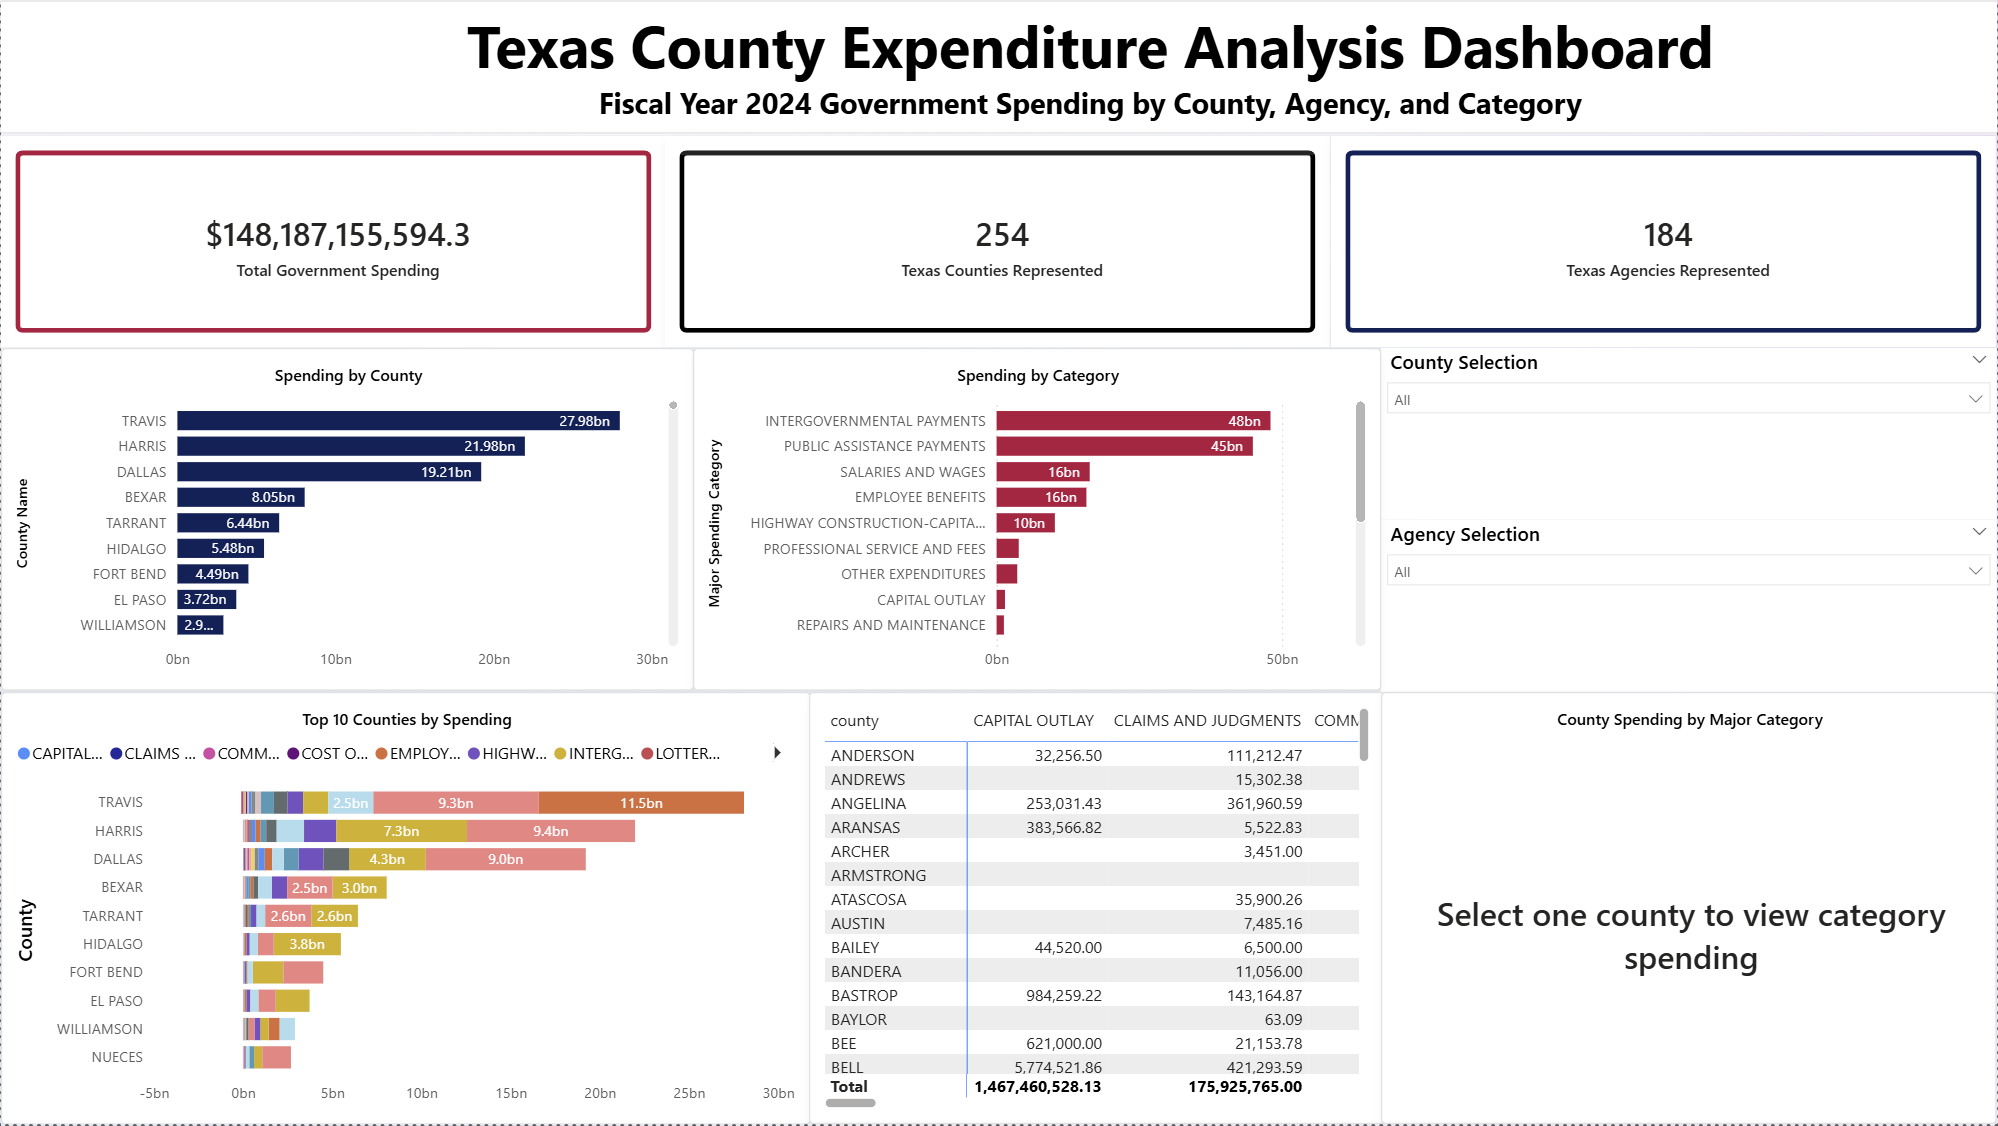

The dashboard page shown, as its layout file describes it:
{"tool":"powerbi","page":{"name":"Page 1","canvas":[1664,936],"ordinal":0},"visuals":[{"type":"textbox","box":[-128,0,1920,112],"z":0},{"type":"cardVisual","fields":{"Data":["Sum(cleaned_expenditures_by_county_2024.amount)"]},"box":[0,114,555,176.2],"z":1000},{"type":"cardVisual","fields":{"Data":["Count(cleaned_expenditures_by_county_2024.county)"]},"box":[553.6,114,555,176.2],"z":2000},{"type":"cardVisual","fields":{"Data":["Count(cleaned_expenditures_by_county_2024.agency_name)"]},"box":[1108.6,114,555,176.2],"z":3000},{"type":"slicer","fields":{"Values":["cleaned_expenditures_by_county_2024.county"]},"box":[1150,290,512.9,142.9],"z":4000},{"type":"slicer","fields":{"Values":["cleaned_expenditures_by_county_2024.agency_name"]},"box":[1150,432.9,512.9,142.9],"z":5000},{"type":"barChart","title":"Spending by County","fields":{"Y":["Sum(cleaned_expenditures_by_county_2024.amount)"],"Category":["cleaned_expenditures_by_county_2024.county"]},"box":[0,290.6,577.3,285.4],"z":6000},{"type":"barChart","title":"Spending by Category","fields":{"Y":["Sum(cleaned_expenditures_by_county_2024.amount)"],"Category":["cleaned_expenditures_by_county_2024.major_spending_category"]},"box":[577.3,290.6,573.4,285.4],"z":7000},{"type":"barChart","title":"Top 10 Counties by Spending","fields":{"Series":["cleaned_expenditures_by_county_2024.major_spending_category"],"Category":["cleaned_expenditures_by_county_2024.county"],"Y":["Sum(cleaned_expenditures_by_county_2024.amount)"]},"box":[0,576,674.6,360.3],"z":8000},{"type":"pivotTable","fields":{"Rows":["cleaned_expenditures_by_county_2024.county"],"Columns":["cleaned_expenditures_by_county_2024.major_spending_category"],"Values":["Sum(cleaned_expenditures_by_county_2024.amount)"]},"box":[672.5,576.2,480,360],"z":9000},{"type":"pieChart","fields":{"Category":["cleaned_expenditures_by_county_2024.major_spending_category"],"Y":["cleaned_expenditures_by_county_2024.County Category Spending"]},"box":[1150,576,513,360],"z":10000},{"type":"cardVisual","fields":{"Data":["cleaned_expenditures_by_county_2024.County Selection Message"]},"box":[1152,624,512,304],"z":10001}]}

Visuals, with their boxes in screenshot pixels (x1, y1, x2, y2), scaled from the page's 1664x936 canvas onto the 1998x1126 screenshot:
textbox: select_region(0, 0, 1997, 135)
cardVisual - Sum(cleaned_expenditures_by_county_2024.amount): select_region(0, 137, 666, 349)
cardVisual - Count(cleaned_expenditures_by_county_2024.county): select_region(665, 137, 1331, 349)
cardVisual - Count(cleaned_expenditures_by_county_2024.agency_name): select_region(1331, 137, 1997, 349)
slicer - cleaned_expenditures_by_county_2024.county: select_region(1381, 349, 1997, 521)
slicer - cleaned_expenditures_by_county_2024.agency_name: select_region(1381, 521, 1997, 693)
"Spending by County" barChart: select_region(0, 350, 693, 693)
"Spending by Category" barChart: select_region(693, 350, 1382, 693)
"Top 10 Counties by Spending" barChart: select_region(0, 693, 810, 1125)
pivotTable - cleaned_expenditures_by_county_2024.county x cleaned_expenditures_by_county_2024.major_spending_category: select_region(807, 693, 1384, 1125)
pieChart - cleaned_expenditures_by_county_2024.major_spending_category x cleaned_expenditures_by_county_2024.County Category Spending: select_region(1381, 693, 1997, 1125)
cardVisual - cleaned_expenditures_by_county_2024.County Selection Message: select_region(1383, 751, 1997, 1116)
